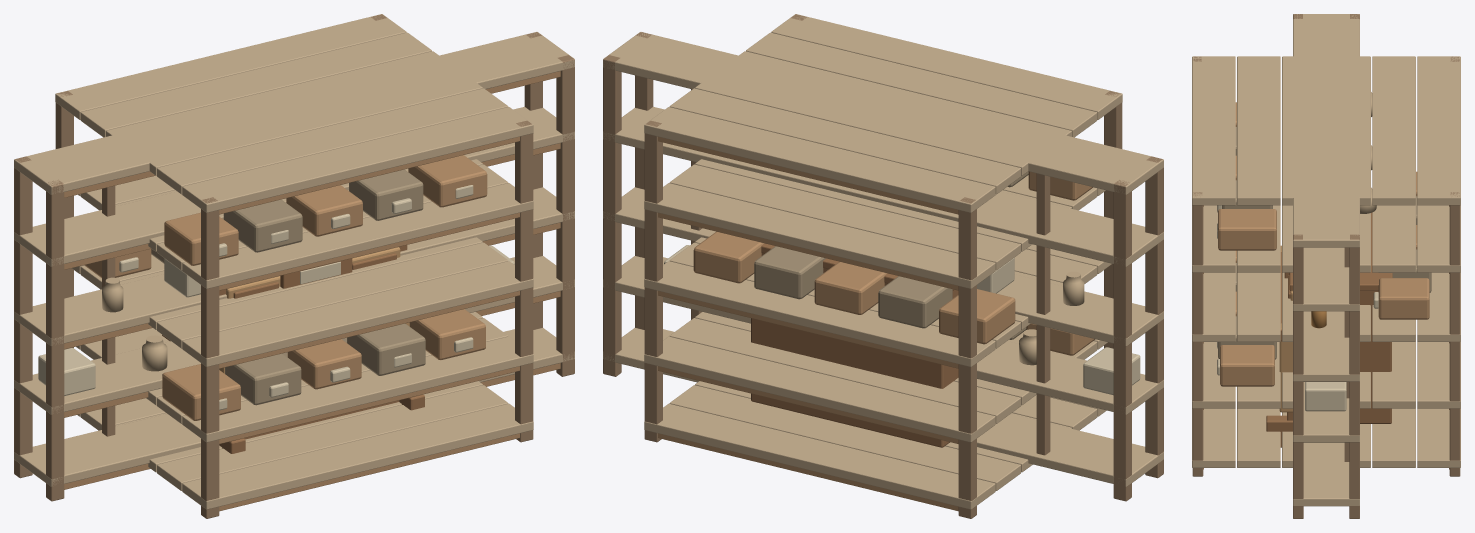
The model's file is frontier-room-fittings.glb.
The picture shows the model from 3 angles, left to right: view 1: azimuth 30°, elevation 25°; view 2: azimuth 150°, elevation 25°; view 3: azimuth 270°, elevation 25°; orthographic projection. The views are drawn at different scales.
Visible parts, largest first — view 1: Weathered walnut shelf boards.001, Weathered walnut shelf boards, Cut oak shelves.001, Planed oak shelf uprights, Planed oak shelf uprights.001, Stock hessian cloth, Cut oak shelves, Folded stock paper.002, Folded stock paper.001, Waxed walnut piano case, Stoneware clay, Warm walnut piano inlay; view 2: Weathered walnut shelf boards.001, Weathered walnut shelf boards, Planed oak shelf uprights, Cut oak shelves.001, Planed oak shelf uprights.001, Waxed walnut piano case, Stock hessian cloth, Folded stock paper.001, Stoneware clay; view 3: Weathered walnut shelf boards.001, Weathered walnut shelf boards, Cut oak shelves.001, Planed oak shelf uprights.001, Planed oak shelf uprights, Waxed walnut piano case, Folded stock paper.001, Stock hessian cloth, Warm walnut piano inlay.
Part boxes in pixels (box(x1,y1,x2,y2)): Weathered walnut shelf boards.001: box(55, 14, 533, 509); Weathered walnut shelf boards: box(14, 32, 574, 486); Cut oak shelves.001: box(84, 136, 519, 511); Planed oak shelf uprights: box(14, 32, 574, 501); Planed oak shelf uprights.001: box(55, 14, 533, 518); Stock hessian cloth: box(151, 169, 425, 405); Cut oak shelves: box(64, 71, 560, 489); Folded stock paper.002: box(119, 185, 473, 410); Folded stock paper.001: box(38, 245, 514, 395); Waxed walnut piano case: box(162, 245, 424, 453); Stoneware clay: box(102, 277, 167, 371); Warm walnut piano inlay: box(219, 247, 409, 373); Weathered walnut shelf boards.001: box(644, 14, 1122, 509); Weathered walnut shelf boards: box(603, 32, 1163, 486); Planed oak shelf uprights: box(603, 32, 1163, 501); Cut oak shelves.001: box(658, 136, 1095, 511); Planed oak shelf uprights.001: box(644, 14, 1122, 518); Waxed walnut piano case: box(751, 243, 958, 447); Stock hessian cloth: box(754, 171, 1028, 339); Folded stock paper.001: box(664, 245, 1140, 395); Stoneware clay: box(1019, 271, 1084, 365); Weathered walnut shelf boards.001: box(1192, 56, 1460, 467); Weathered walnut shelf boards: box(1293, 14, 1359, 506); Cut oak shelves.001: box(1203, 102, 1449, 469); Planed oak shelf uprights.001: box(1192, 56, 1460, 476); Planed oak shelf uprights: box(1293, 14, 1359, 518); Waxed walnut piano case: box(1266, 212, 1392, 447); Folded stock paper.001: box(1305, 382, 1346, 411); Stock hessian cloth: box(1218, 127, 1431, 359); Warm walnut piano inlay: box(1279, 245, 1292, 412).
Size of the model in its own units: 4 by 2.3 by 2.01.
